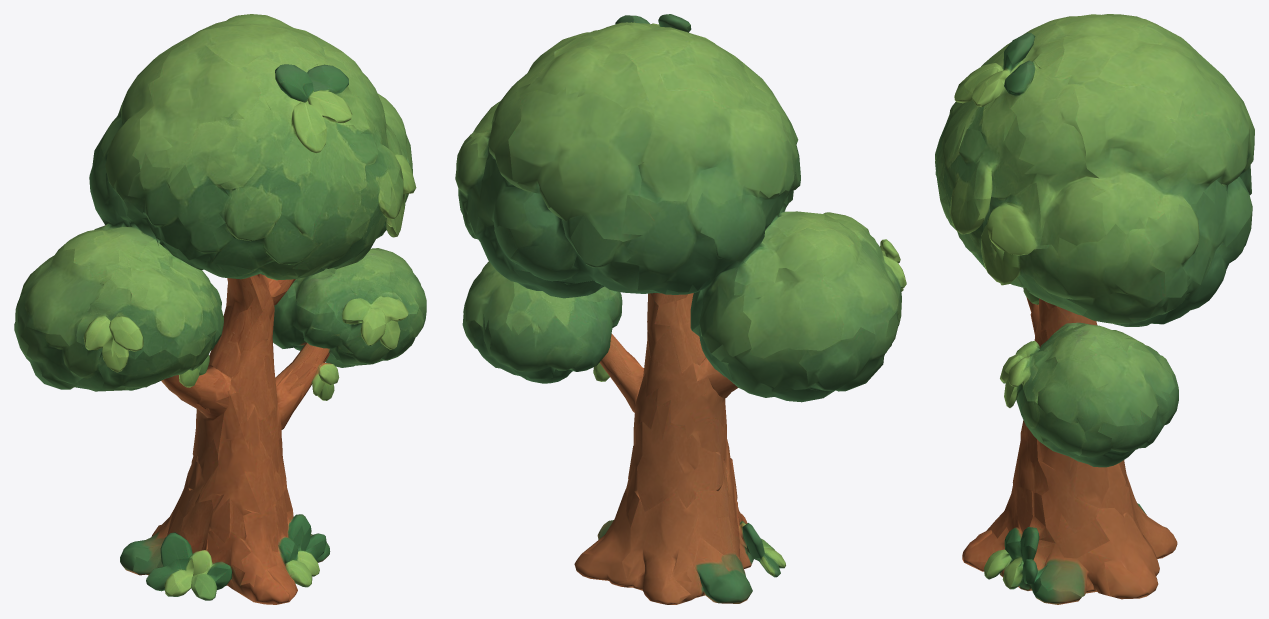
Rendered from forest-canopy.glb.
3 views of the same model, side by side, from view 1: azimuth 30°, elevation 25°; view 2: azimuth 150°, elevation 25°; view 3: azimuth 270°, elevation 25° (orthographic). The views are drawn at different scales.
Bounding box in the file's own units: 1.54 × 1.9 × 1.
1 material, 1 textured.
